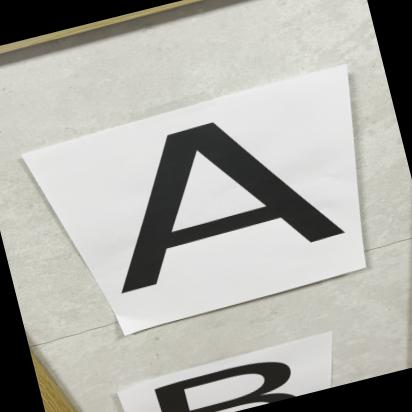seat: (65, 84, 379, 311)
